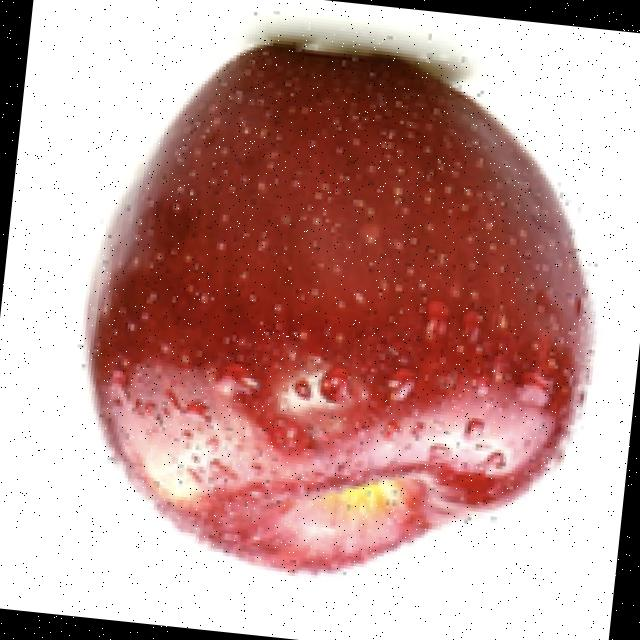apple: (76, 9, 601, 580)
